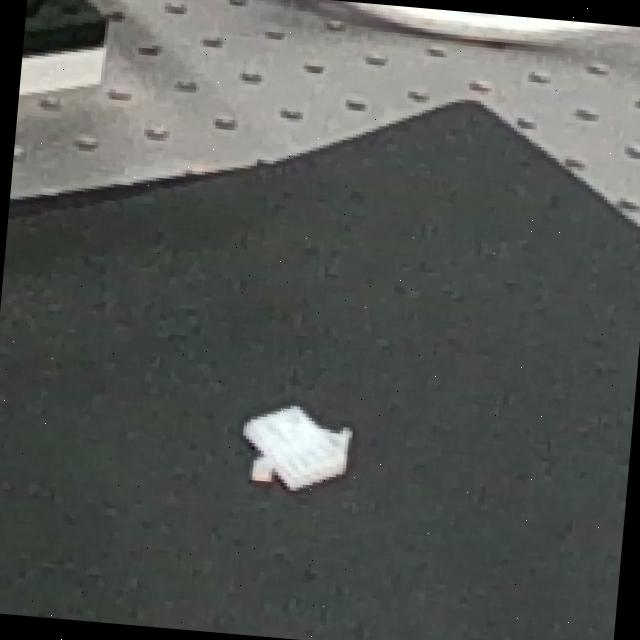pick: (218, 376, 374, 510), (612, 512, 624, 623)
